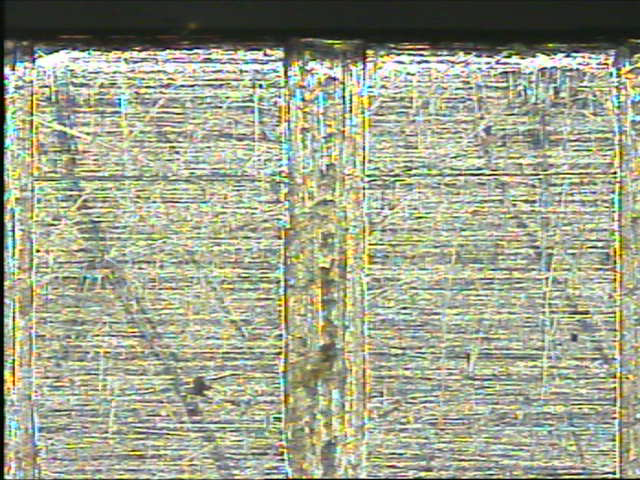line: (278, 37, 373, 475)
